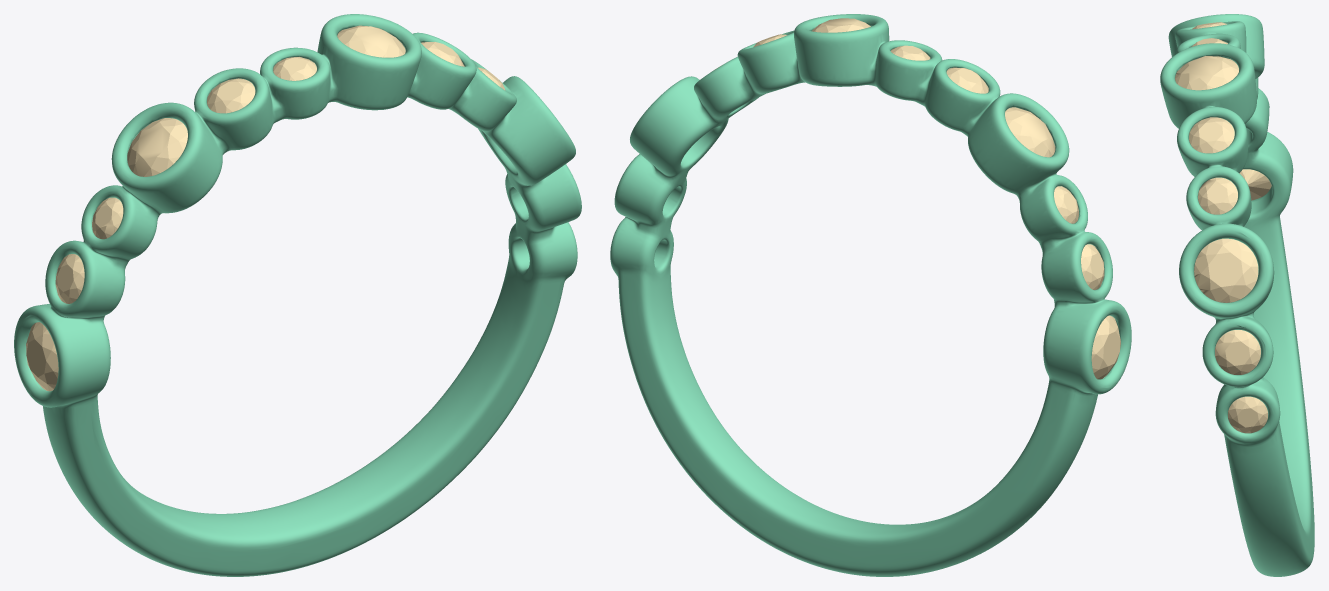
3 views of the same model, side by side, from view 1: azimuth 30°, elevation 25°; view 2: azimuth 150°, elevation 25°; view 3: azimuth 270°, elevation 25° (orthographic). The views are drawn at different scales.
Parts seen in each view (by area): view 1: Metal02, Diamond_Round.011, Diamond_Round.010, Diamond_Round.009, Diamond_Round.004, Diamond_Round.008, Diamond_Round.003, Diamond_Round.006; view 2: Metal02, Diamond_Round.011, Diamond_Round.010, Diamond_Round.008, Diamond_Round.004, Diamond_Round.003; view 3: Metal02, Diamond_Round.001, Diamond_Round.009, Diamond_Round, Diamond_Round.005, Diamond_Round.002, Diamond_Round.007, Diamond_Round.010.
Boxes of the visible parts, left/top/right/bottom form: Metal02: left=14, top=14, right=581, bottom=576; Diamond_Round.011: left=127, top=118, right=187, bottom=176; Diamond_Round.010: left=26, top=322, right=58, bottom=391; Diamond_Round.009: left=337, top=25, right=405, bottom=57; Diamond_Round.004: left=207, top=78, right=255, bottom=113; Diamond_Round.008: left=55, top=254, right=84, bottom=303; Diamond_Round.003: left=92, top=197, right=123, bottom=239; Diamond_Round.006: left=273, top=57, right=316, bottom=80; Metal02: left=610, top=14, right=1131, bottom=576; Diamond_Round.011: left=1005, top=107, right=1055, bottom=157; Diamond_Round.010: left=1091, top=315, right=1120, bottom=379; Diamond_Round.008: left=1081, top=244, right=1104, bottom=289; Diamond_Round.004: left=946, top=67, right=988, bottom=93; Diamond_Round.003: left=1054, top=186, right=1078, bottom=223; Metal02: left=1160, top=14, right=1314, bottom=576; Diamond_Round.001: left=1194, top=238, right=1258, bottom=302; Diamond_Round.009: left=1175, top=56, right=1238, bottom=90; Diamond_Round: left=1215, top=330, right=1260, bottom=374; Diamond_Round.005: left=1189, top=117, right=1234, bottom=153; Diamond_Round.002: left=1198, top=177, right=1237, bottom=214; Diamond_Round.007: left=1228, top=396, right=1267, bottom=433; Diamond_Round.010: left=1239, top=169, right=1271, bottom=200.
Bounding box in the file's own units: 20.3 × 20.33 × 5.56.
